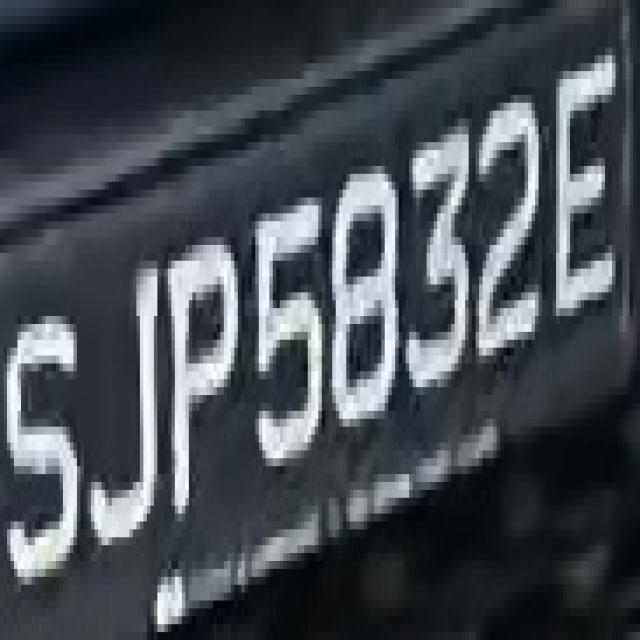2: (458, 87, 542, 387)
3: (399, 87, 472, 411)
5: (248, 182, 332, 458)
8: (328, 182, 398, 450)
E: (549, 39, 623, 340)
J: (73, 221, 161, 553)
P: (154, 213, 241, 538)
S: (3, 293, 91, 616)
